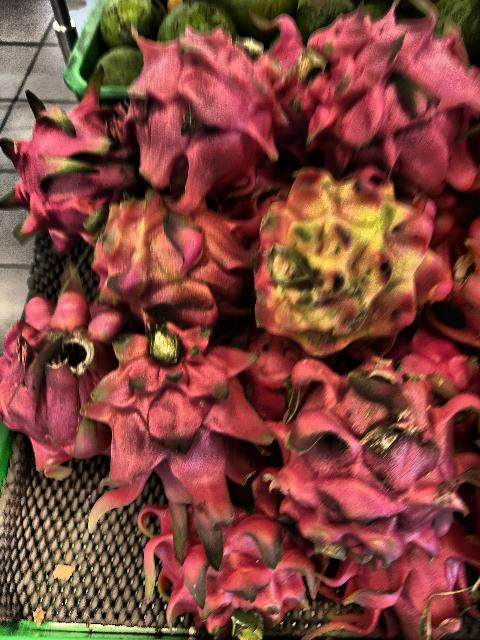buah-naga-belum-matang: (236, 158, 450, 338), (85, 204, 248, 324)
buah-naga-matang: (277, 352, 460, 558), (274, 8, 480, 176), (85, 323, 262, 517), (130, 482, 328, 626), (118, 15, 274, 184), (0, 288, 120, 460), (2, 116, 132, 237)
